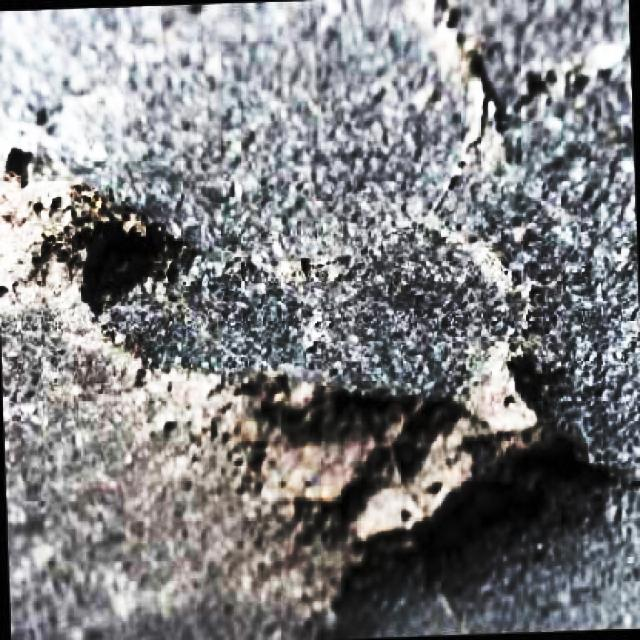pothole: (5, 146, 617, 603)
